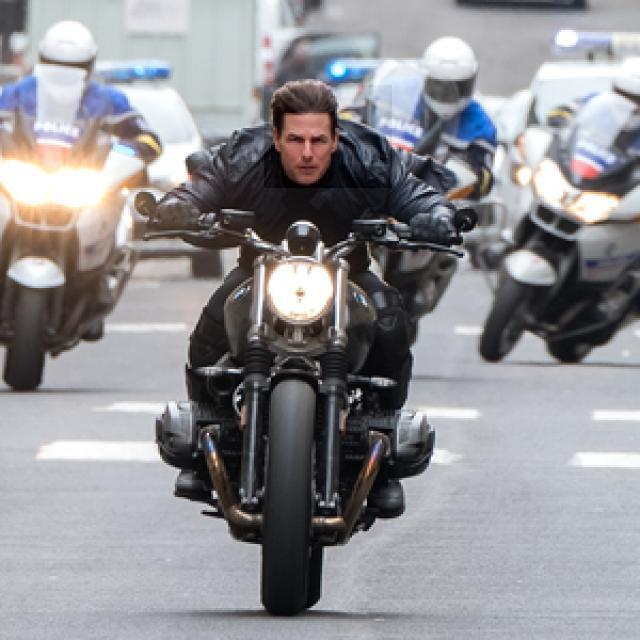No_Helmet: (264, 85, 392, 188)
